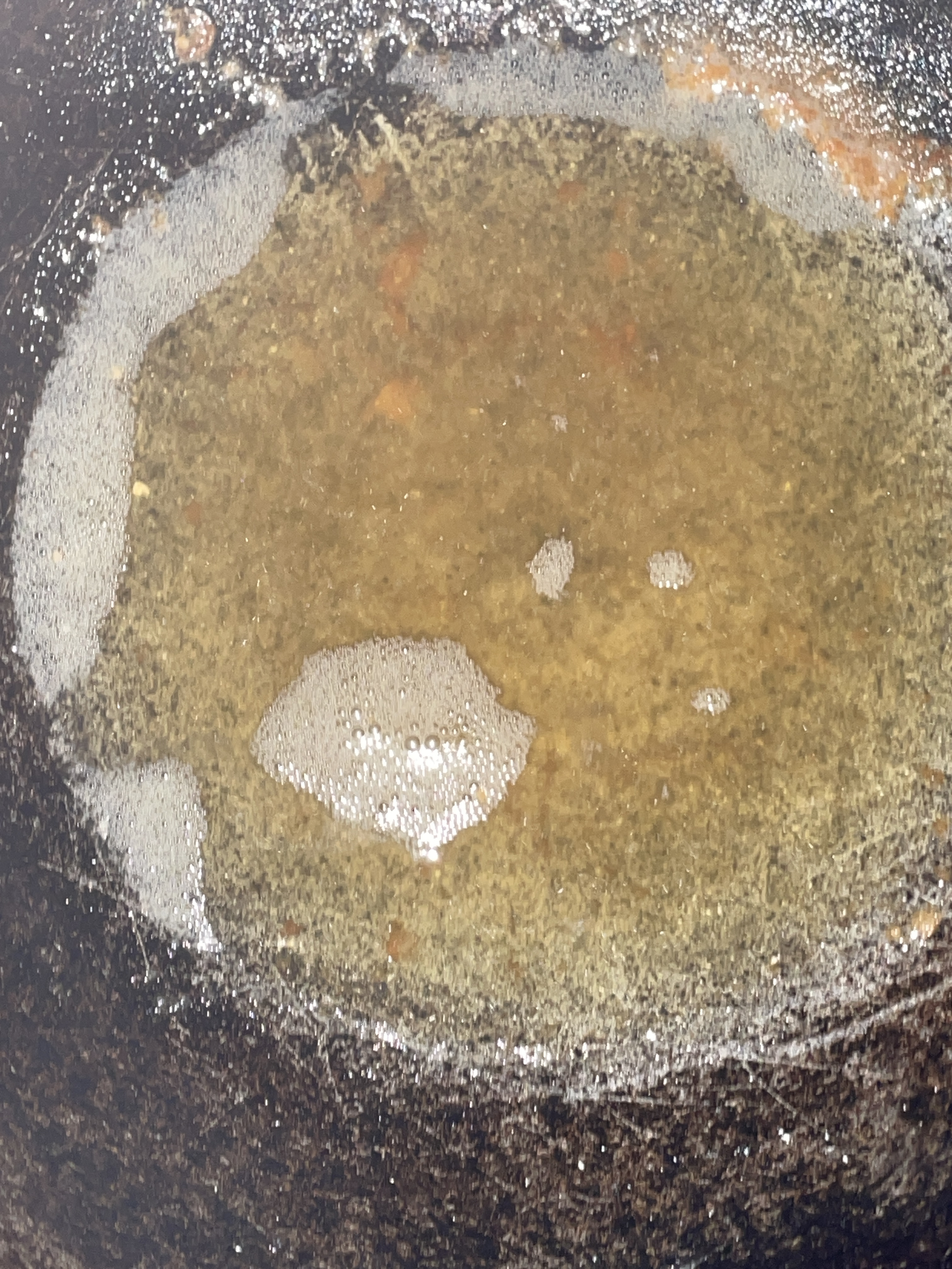non-reusable: (19, 57, 952, 1067)
